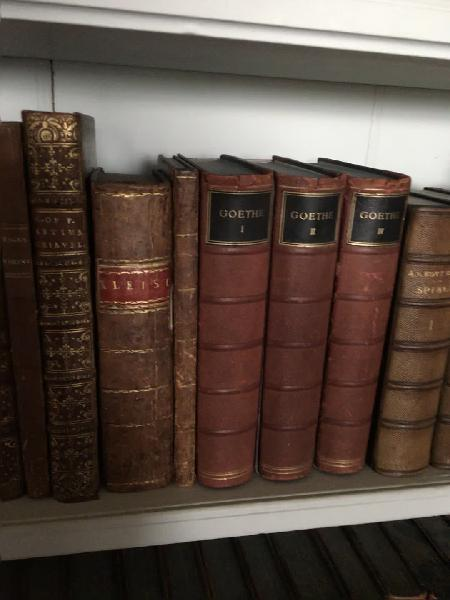Aa6-10: (169, 164, 201, 491)
Aa6-11_13: (203, 173, 414, 492)
Aa6-7: (5, 123, 47, 513)
Aa6-8: (19, 108, 111, 506)
Aa6-9: (88, 176, 171, 487)
